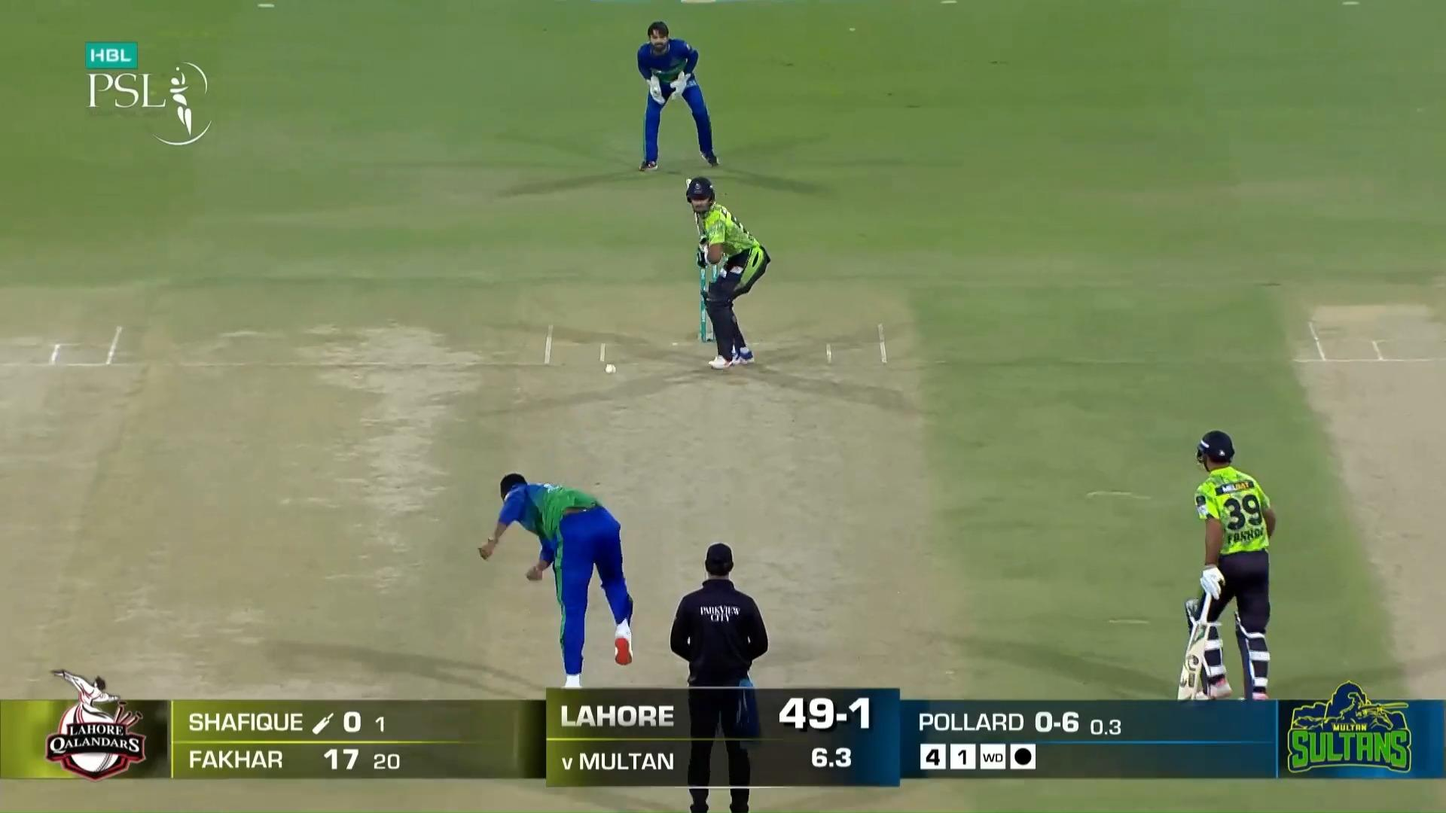batsman: (685, 175, 772, 371)
